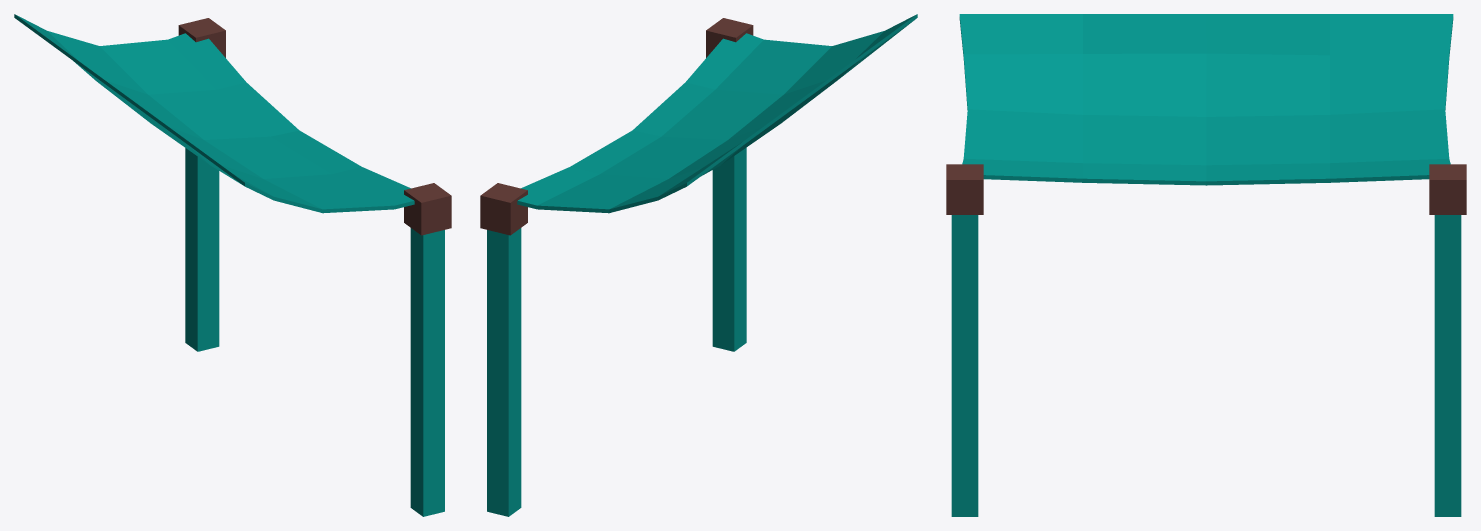
File: GEO_halftent.fbx
The picture shows the model from 3 angles, left to right: view 1: azimuth 30°, elevation 25°; view 2: azimuth 150°, elevation 25°; view 3: azimuth 270°, elevation 25°; orthographic projection. The views are drawn at different scales.
Parts seen in each view (by area): view 1: GEO_halftent; view 2: GEO_halftent; view 3: GEO_halftent.
Part boxes in pixels (x1,y1,x2,y2): GEO_halftent: (14,14,451,516); GEO_halftent: (480,14,917,516); GEO_halftent: (946,14,1466,516).
Bounding box in the file's own units: 158 × 281 × 331.
